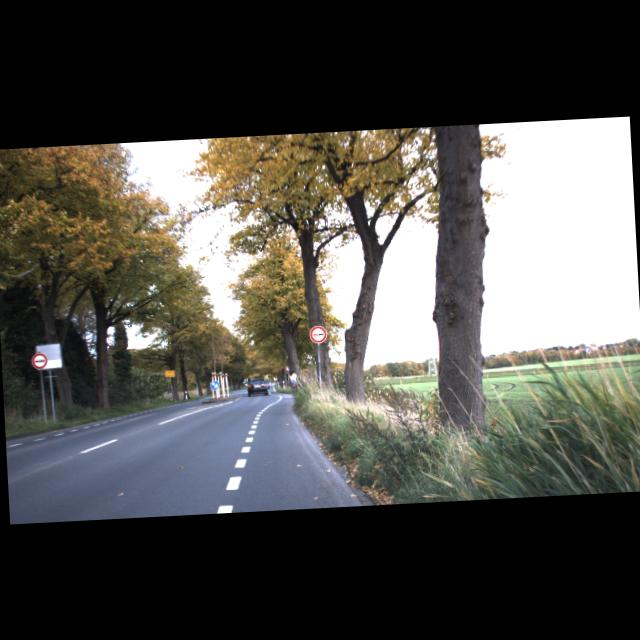mandatory: (210, 379, 220, 390)
prohibitory: (308, 325, 326, 343), (30, 352, 47, 370)
